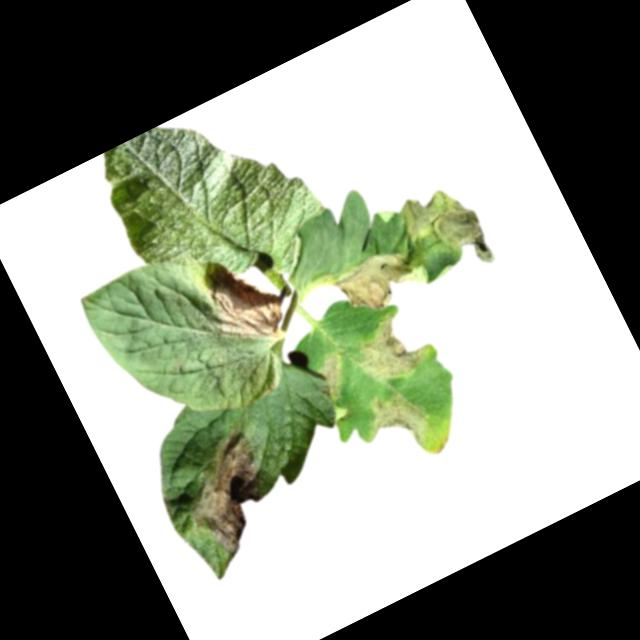Late_blight: (164, 422, 295, 567), (393, 173, 500, 290), (188, 247, 294, 361), (323, 233, 433, 327), (339, 302, 440, 397), (350, 380, 438, 468), (303, 349, 355, 405)
healthy: (84, 76, 332, 313)
